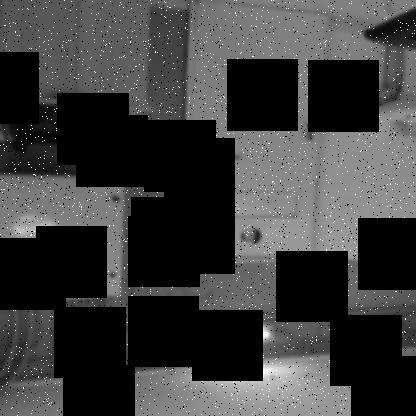Porte: (177, 1, 333, 266)
